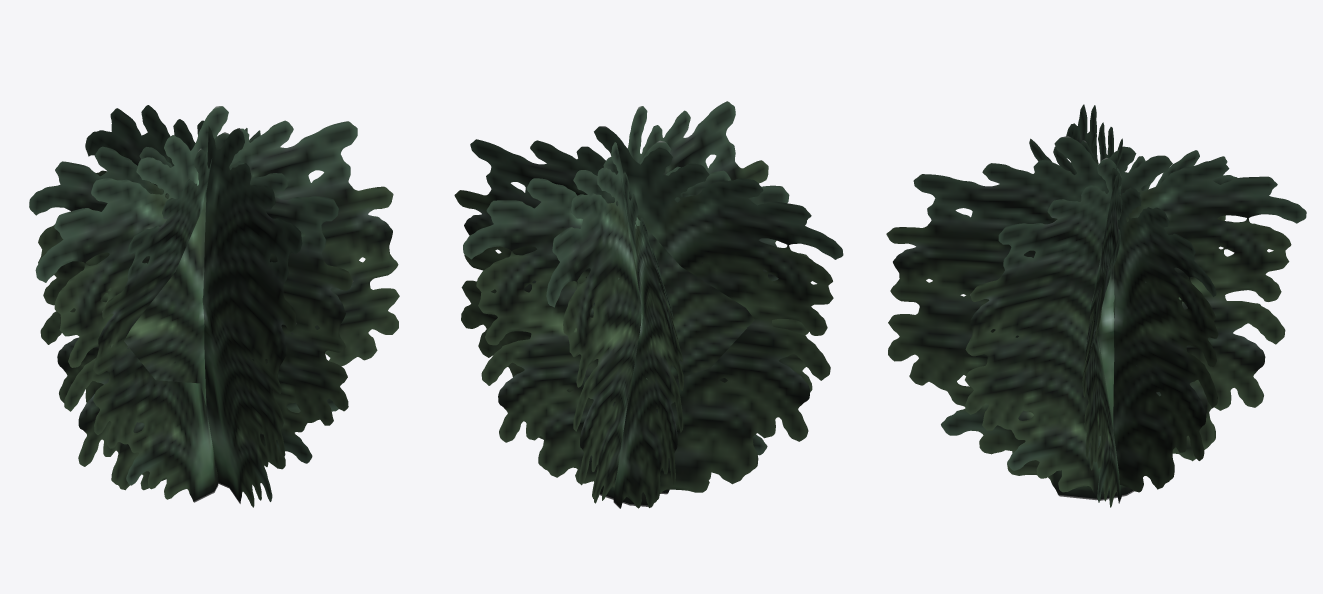
File: WannaTree.fbx
The picture shows the model from 3 angles, left to right: view 1: azimuth 30°, elevation 25°; view 2: azimuth 150°, elevation 25°; view 3: azimuth 270°, elevation 25°; orthographic projection. The views are drawn at different scales.
Parts seen in each view (by area): view 1: WannaTree; view 2: WannaTree; view 3: WannaTree.
Boxes of the visible parts, x1,y1,x2,y2 form: WannaTree: (29, 105, 399, 507); WannaTree: (454, 101, 843, 508); WannaTree: (886, 104, 1306, 507).
Bounding box in the file's own units: 403 × 400 × 400.
1 material, 1 textured.
